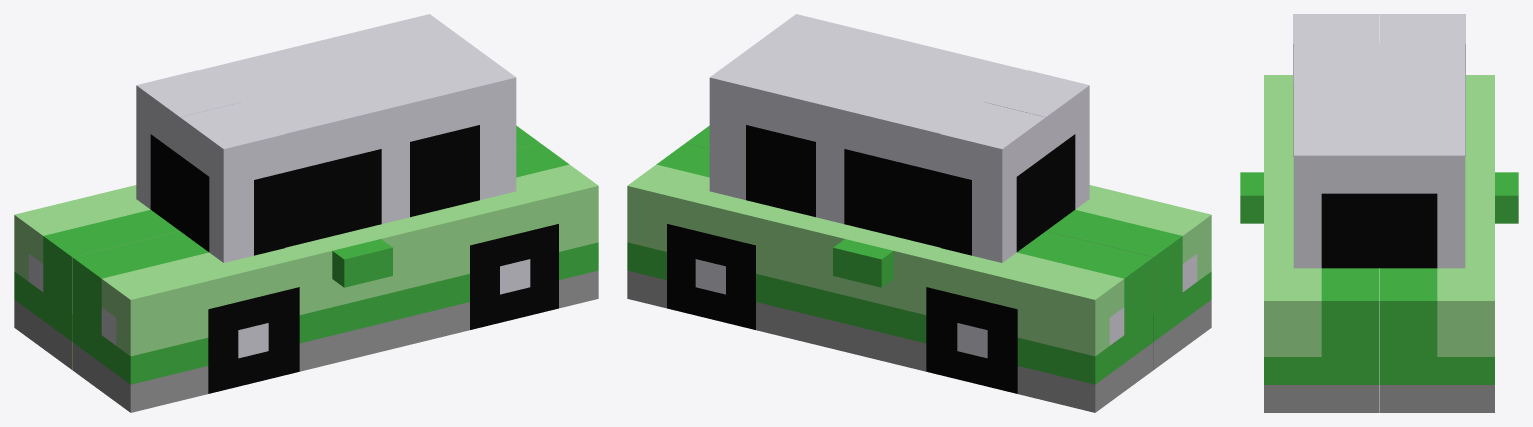
Rendered from voiture_2_vert_.glb.
3 renders of one model, left to right at view 1: azimuth 30°, elevation 25°; view 2: azimuth 150°, elevation 25°; view 3: azimuth 270°, elevation 25°, orthographic.
Visible parts, largest first — view 1: Car_2_Vert; view 2: Car_2_Vert; view 3: Car_2_Vert.
Part boxes in pixels (x1,y1,x2,y2): Car_2_Vert: [14, 14, 598, 412]; Car_2_Vert: [627, 14, 1211, 412]; Car_2_Vert: [1240, 14, 1518, 412].
Bounding box in the file's own units: 16.43 × 7.61 × 8.53.
